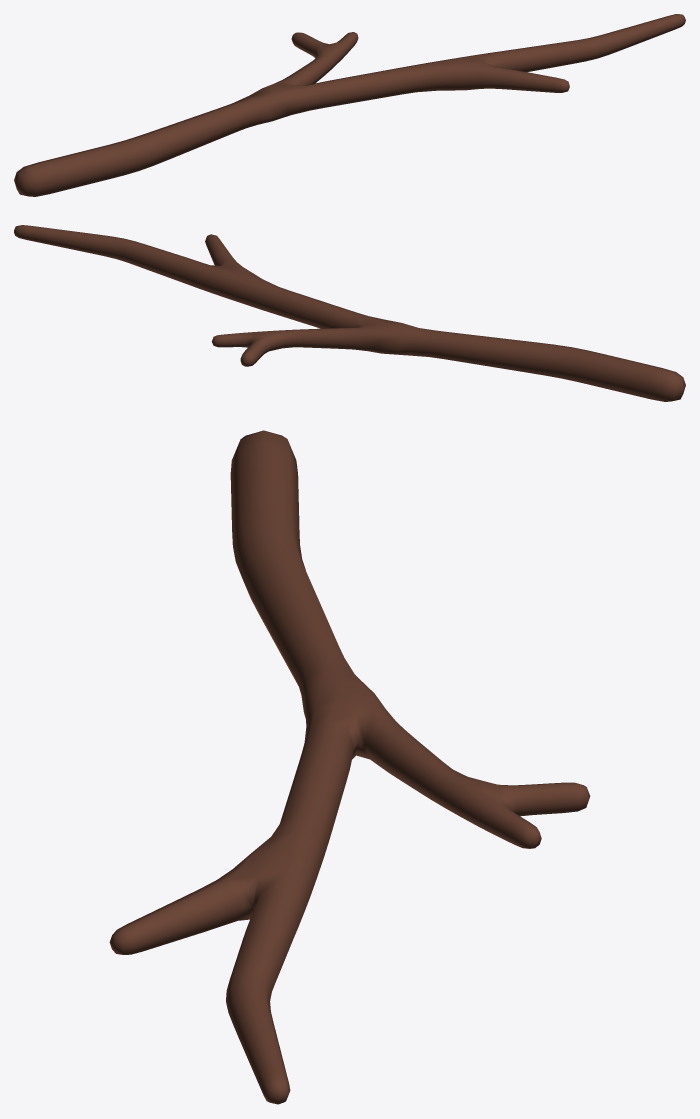
Rendered from Branch2.fbx.
The picture shows the model from 3 angles, top to bottom: view 1: azimuth 30°, elevation 25°; view 2: azimuth 150°, elevation 25°; view 3: azimuth 270°, elevation 25°; orthographic projection. The views are drawn at different scales.
Visible parts, largest first — view 1: Plane.010; view 2: Plane.010; view 3: Plane.010.
Part boxes in pixels (left/top/right/bottom): Plane.010: left=14, top=14, right=685, bottom=196; Plane.010: left=14, top=225, right=685, bottom=401; Plane.010: left=109, top=430, right=590, bottom=1104.
Bounding box in the file's own units: 2043 × 89.57 × 638.
